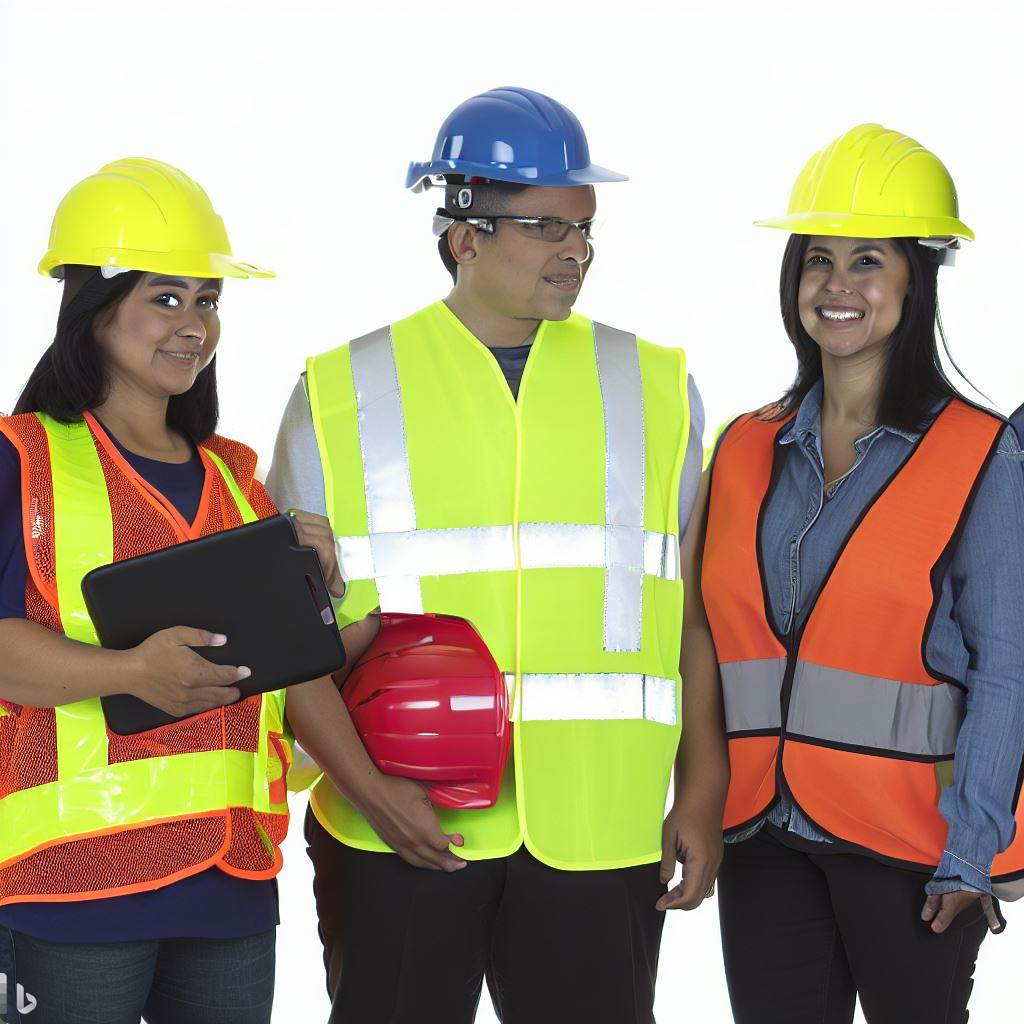Helmet: (31, 154, 280, 292), (744, 118, 985, 259), (400, 82, 632, 196)
Reflective vest: (301, 299, 700, 872), (709, 388, 1023, 881), (1, 410, 292, 929)
